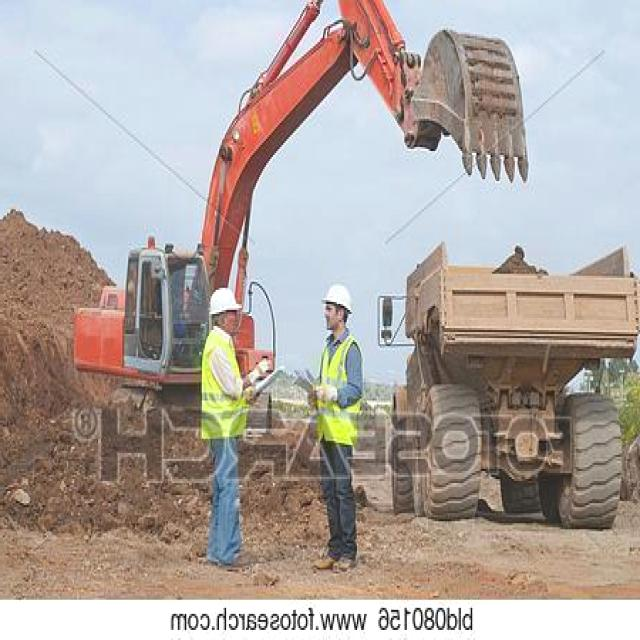face_nomask: (322, 302, 344, 334), (224, 306, 244, 338)
hand_glove: (312, 382, 338, 412)
head_helmet: (204, 286, 244, 320), (319, 286, 357, 310)
person: (196, 288, 259, 563), (317, 288, 363, 570)
shoes: (313, 540, 345, 574), (331, 548, 363, 578)
vest: (199, 334, 249, 437), (317, 340, 361, 441)
